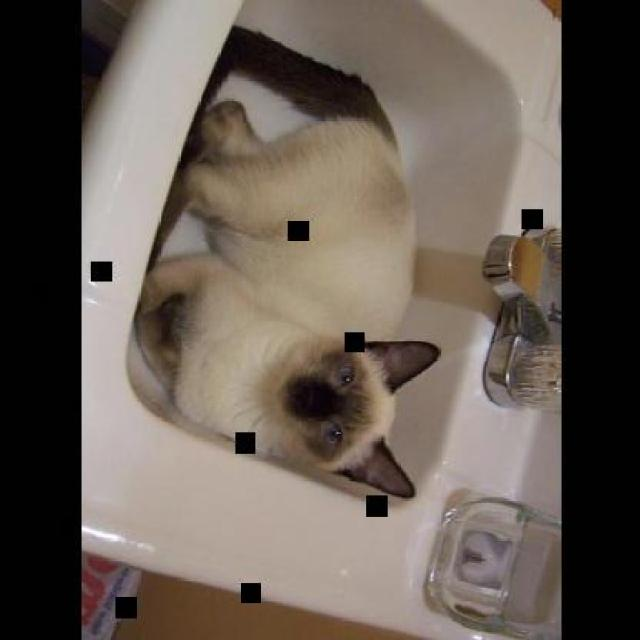unauthorized: (125, 23, 440, 500)
